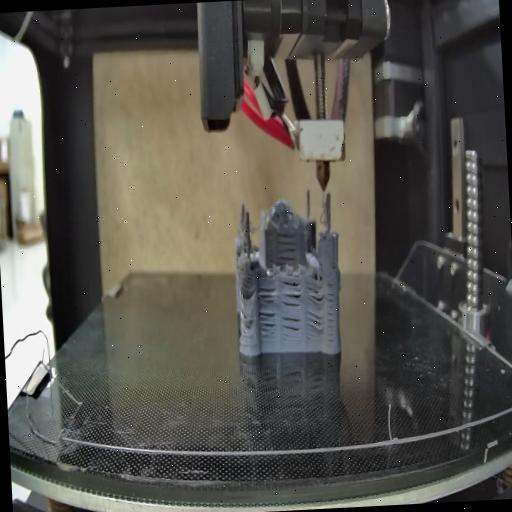cracks: (274, 228, 298, 264), (325, 280, 337, 344), (278, 277, 300, 309), (302, 312, 324, 340), (280, 314, 302, 342), (304, 281, 324, 307), (258, 312, 278, 338), (257, 282, 278, 306), (238, 278, 252, 300), (240, 306, 248, 330)
